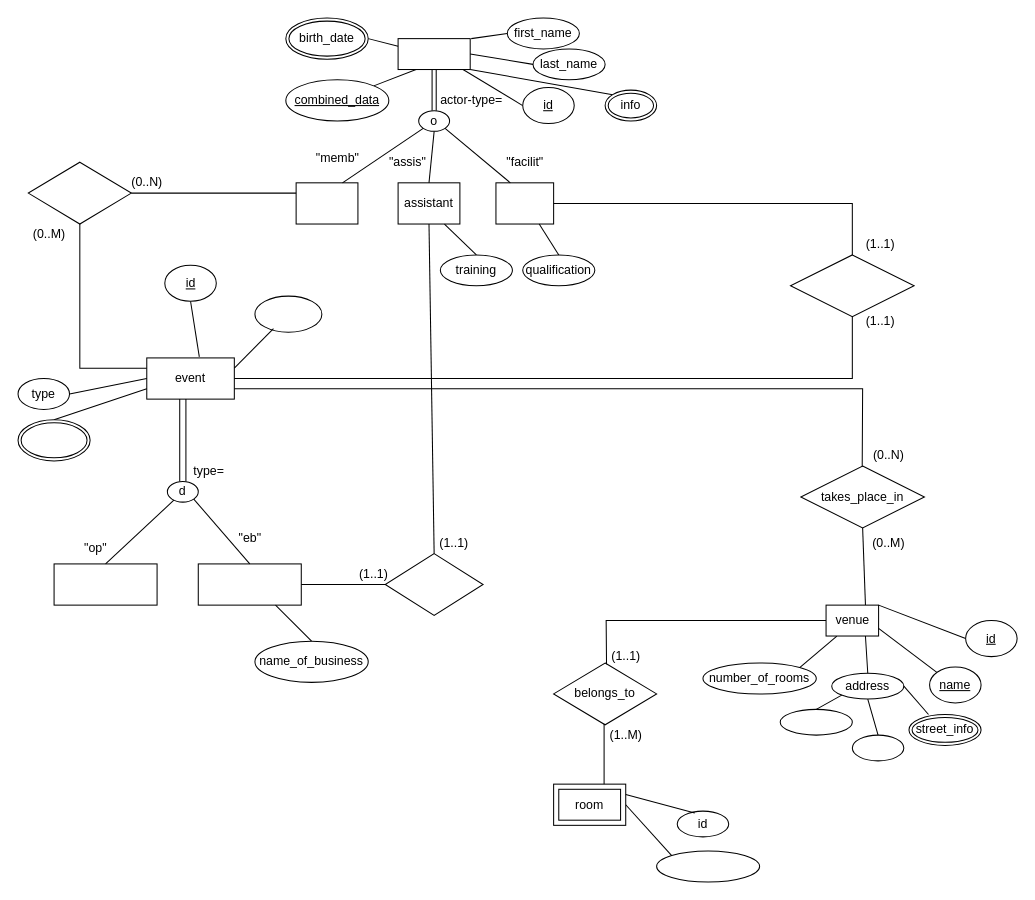
The diagram is 1035 pixels wide and 900 high, and some of its shapes have lost their labels. The shapes that lost their labels are listed below. From the top down, each one's centre as x and y in pixels, then its label:
At (x=433, y=54): "person".
At (x=79, y=192): "participate_in".
At (x=326, y=203): "member".
At (x=524, y=203): "facilitator".
At (x=851, y=285): "facilitate".
At (x=288, y=313): "event_info".
At (x=53, y=440): "date_time".
At (x=105, y=584): "open-to-public _event".
At (x=249, y=584): "exclusive-to-business_event".
At (x=433, y=584): "assist_in".
At (x=815, y=721): "country".
At (x=877, y=747): "city".
At (x=708, y=866): "max_capacity".
